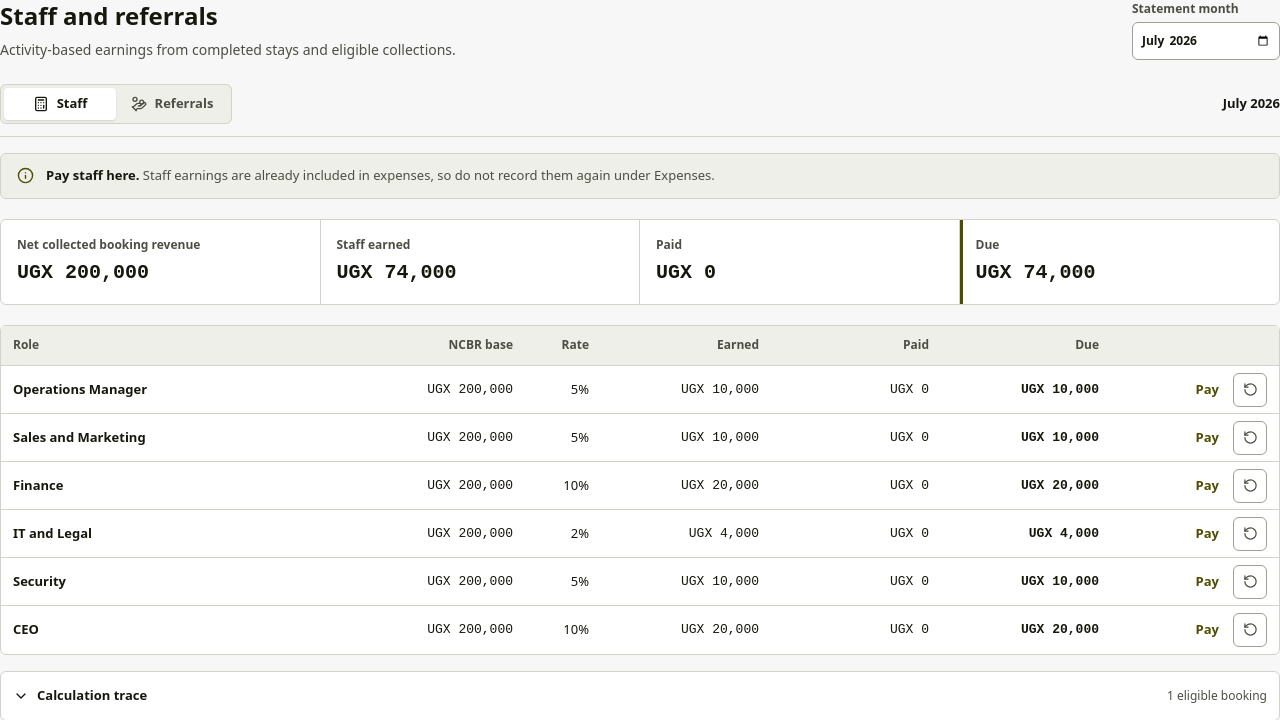
staff compensation screen › shows the six role statement, referral details, and calculation trace
This screenshot has width=1280, height=720.
Check: the text "Operations Manager" is shown, box [13,380,147,398]
Check: the text "Sales and Marketing" is shown, box [13,428,146,446]
Click the button "Referrals". click: point(172, 104)
box: [116,88,228,120]
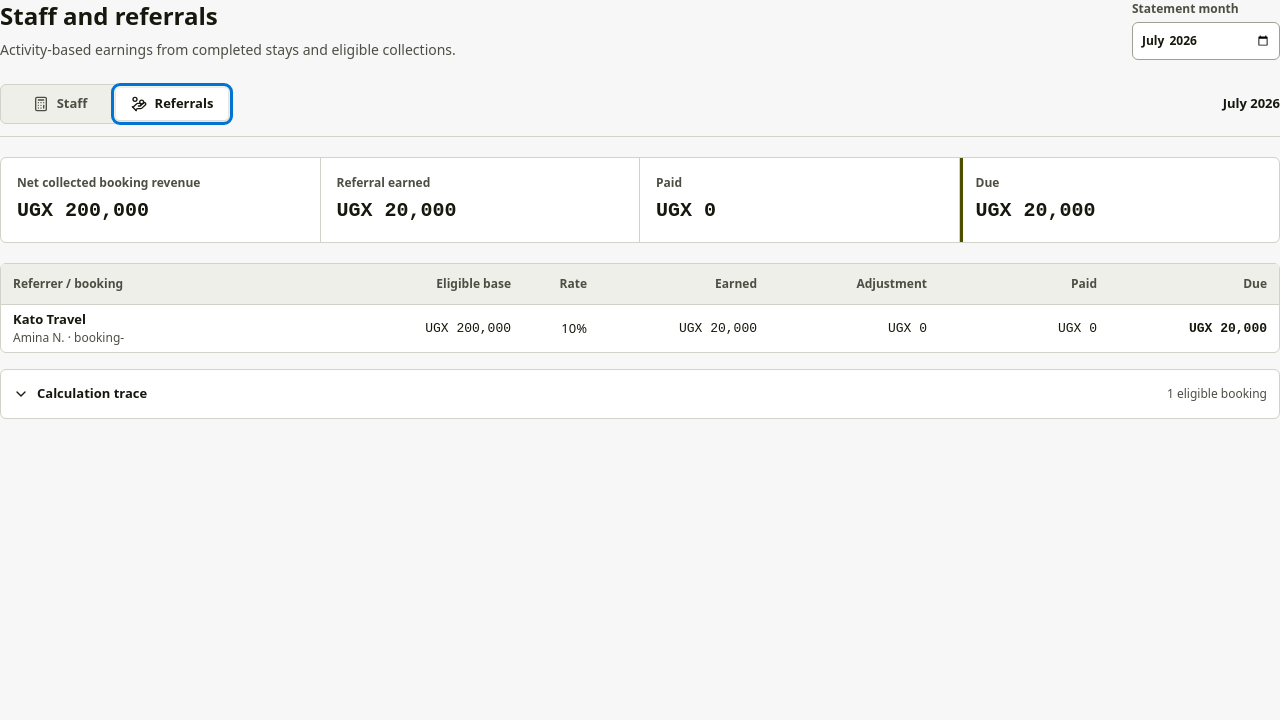
Check: the text "Kato Travel" is shown, box [13,310,86,328]
Check: the text "Amina N. · booking-" is shown, box [13,329,124,346]
Click the text "Calculation trace". click: point(80, 394)
box: [13,384,147,404]
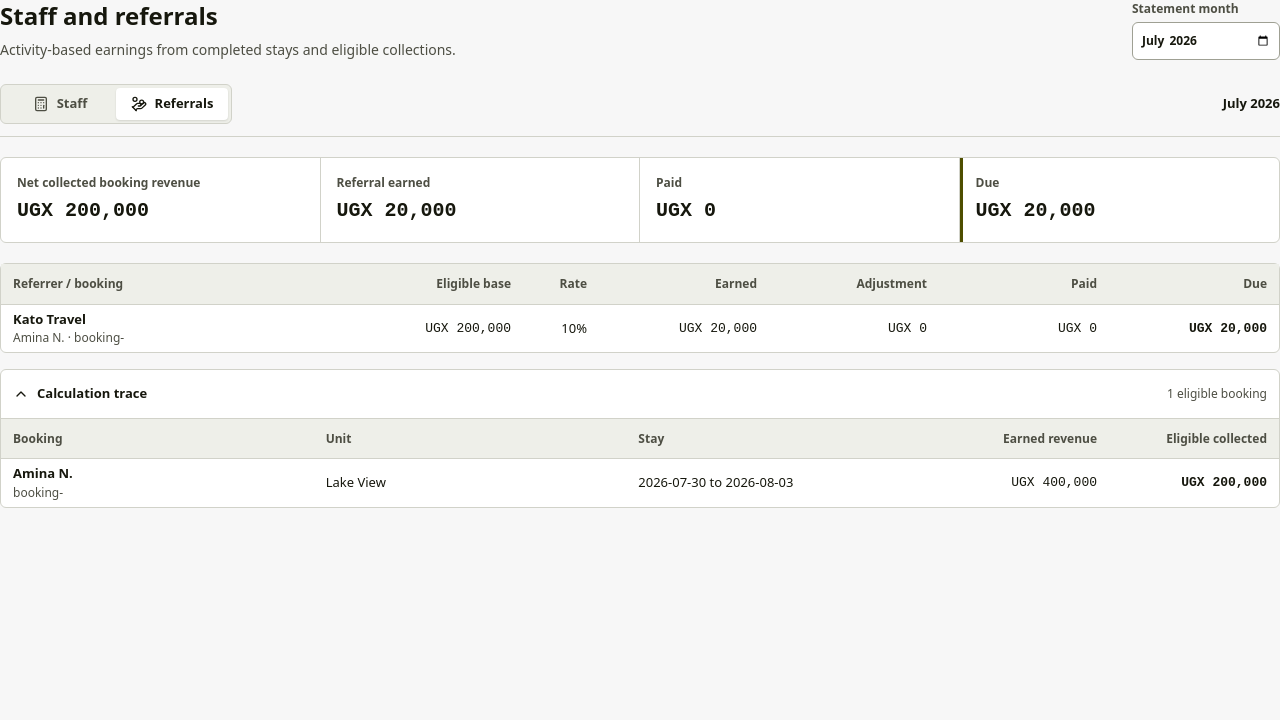
Check: the text "Lake View" is shown, box [314,458,626,506]
Check: the text "2026-07-30 to 2026-08-03" is shown, box [626,458,939,506]
